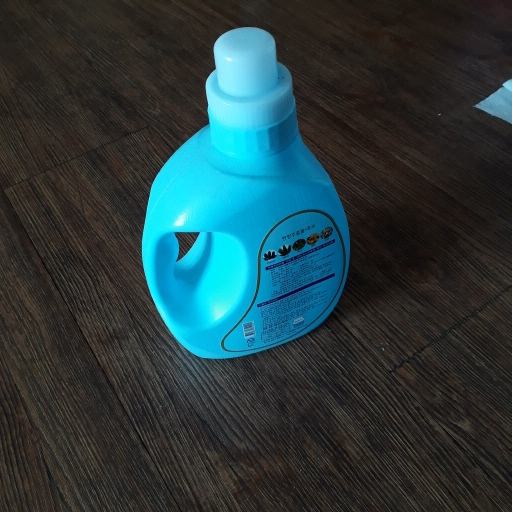Plastic_1: (140, 24, 351, 359)
